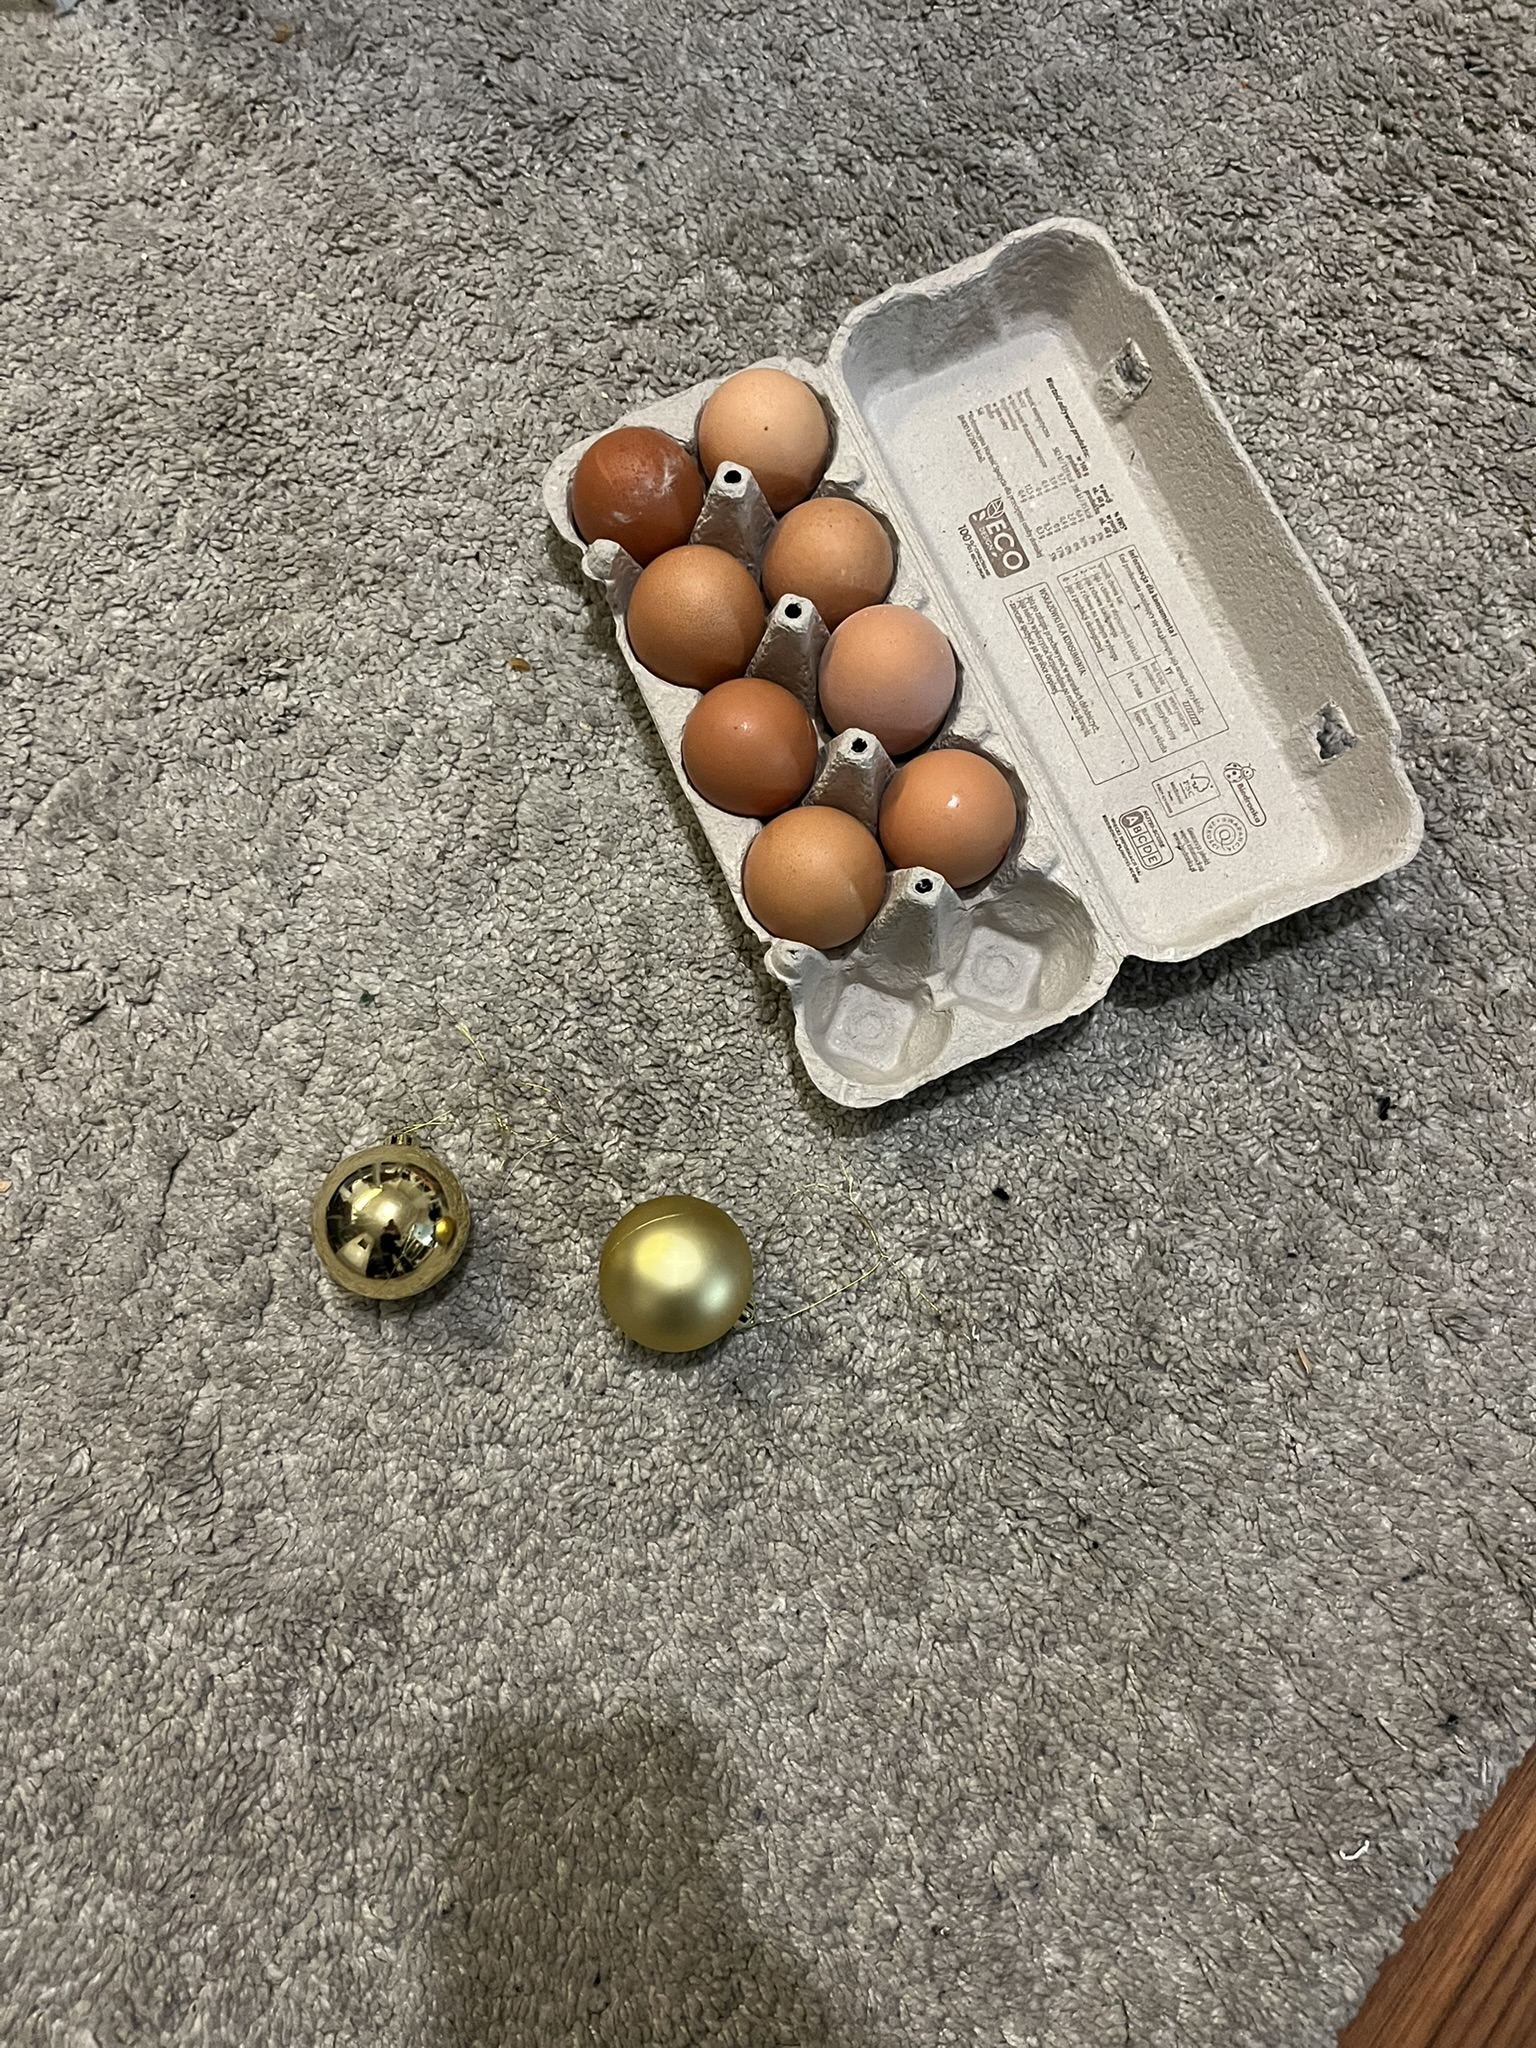BIODEGRADABLE: (873, 748, 1041, 905), (737, 798, 897, 959), (673, 676, 837, 824), (812, 600, 973, 748), (560, 414, 705, 561), (629, 552, 773, 689), (762, 492, 912, 611), (700, 371, 837, 500)
CARDBOARD: (442, 508, 1184, 1266)
PLASTIC: (310, 1127, 474, 1308), (597, 1190, 758, 1359)
